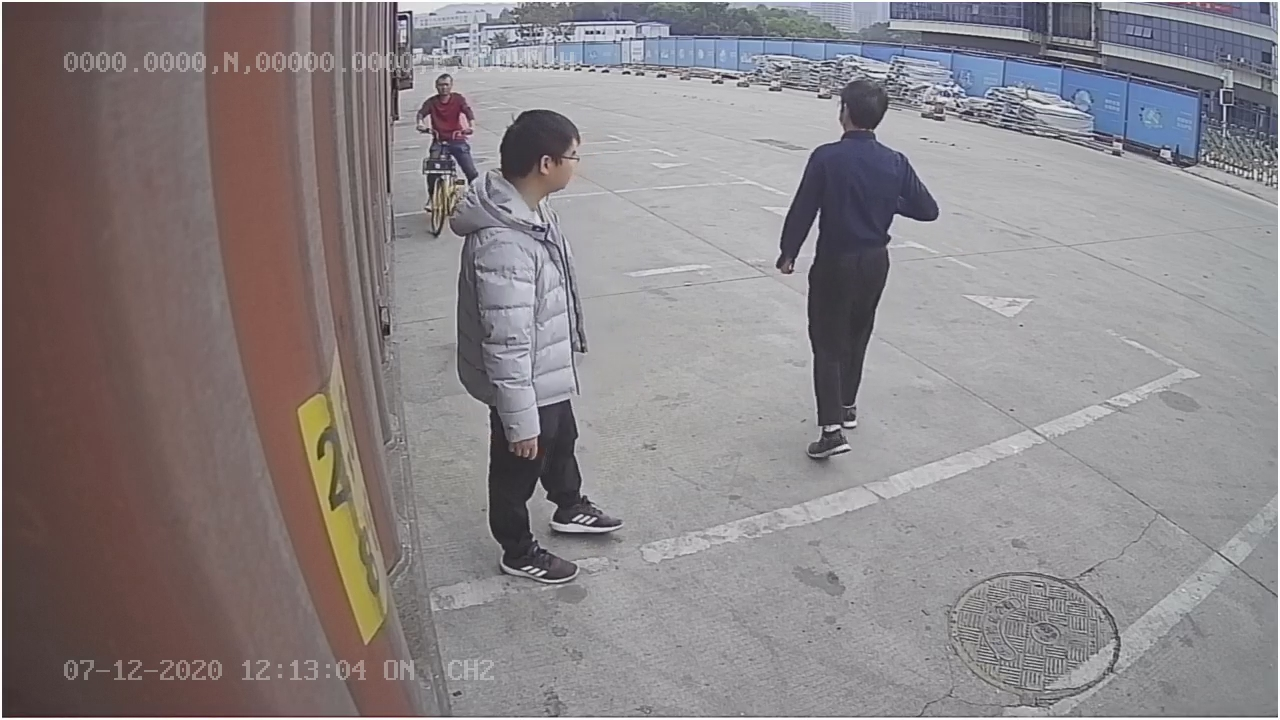person: (443, 98, 641, 598), (774, 79, 940, 464)
